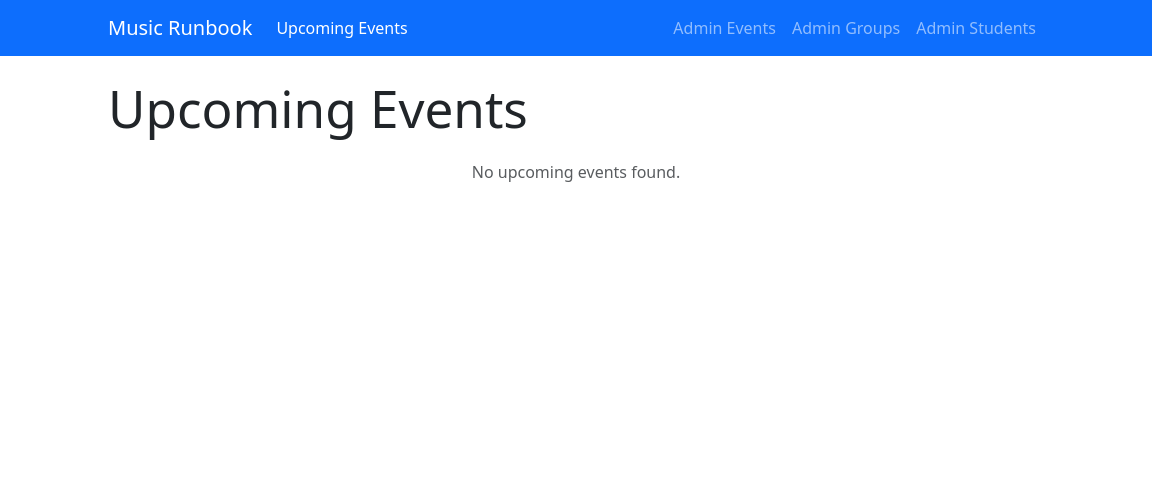
Test: Auth flow › Login page › Given no user is logged in, when they navigate to the admin page, then the login page is shown
Click the link "Admin Events": (725, 28) [673,17,776,39]
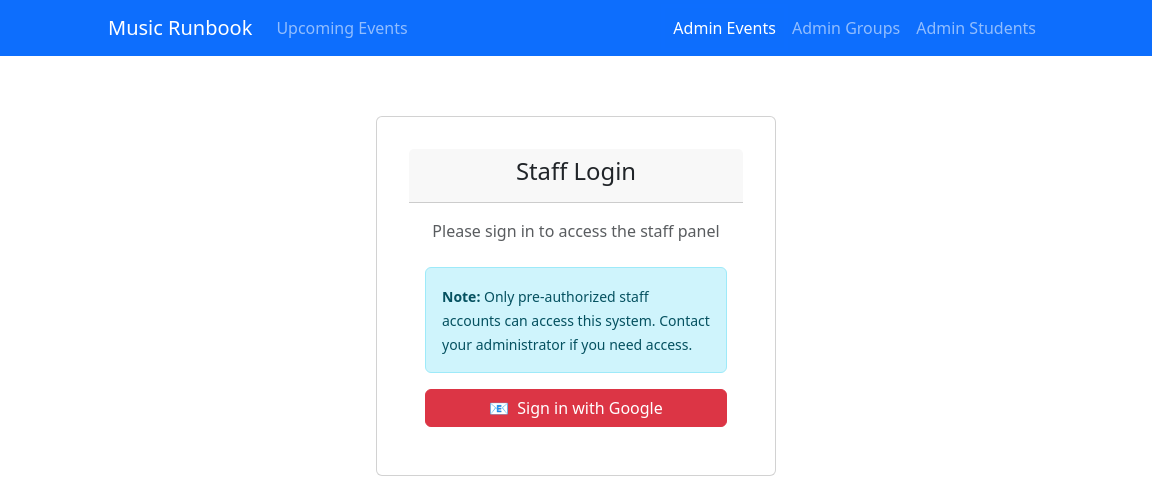
Result: the heading "Staff Login" is shown at [516,155,636,187]
